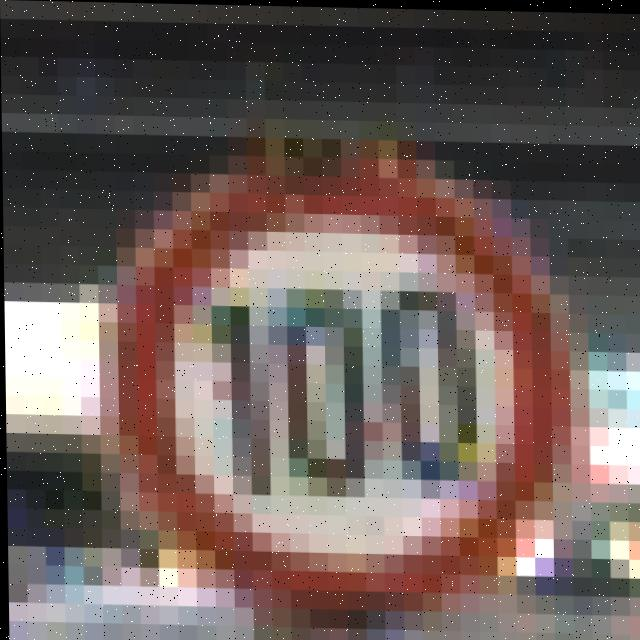speed_limit_100: (133, 132, 538, 590)
